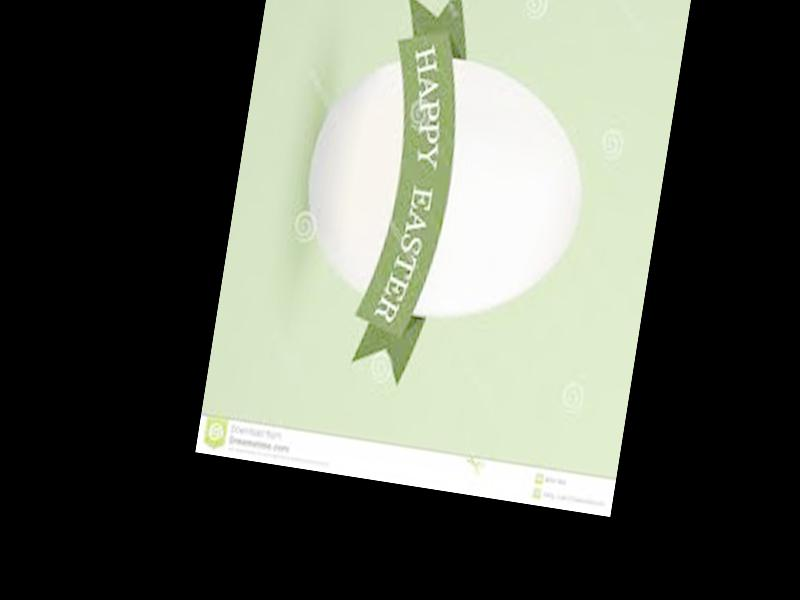Eggs: (291, 42, 599, 338)
